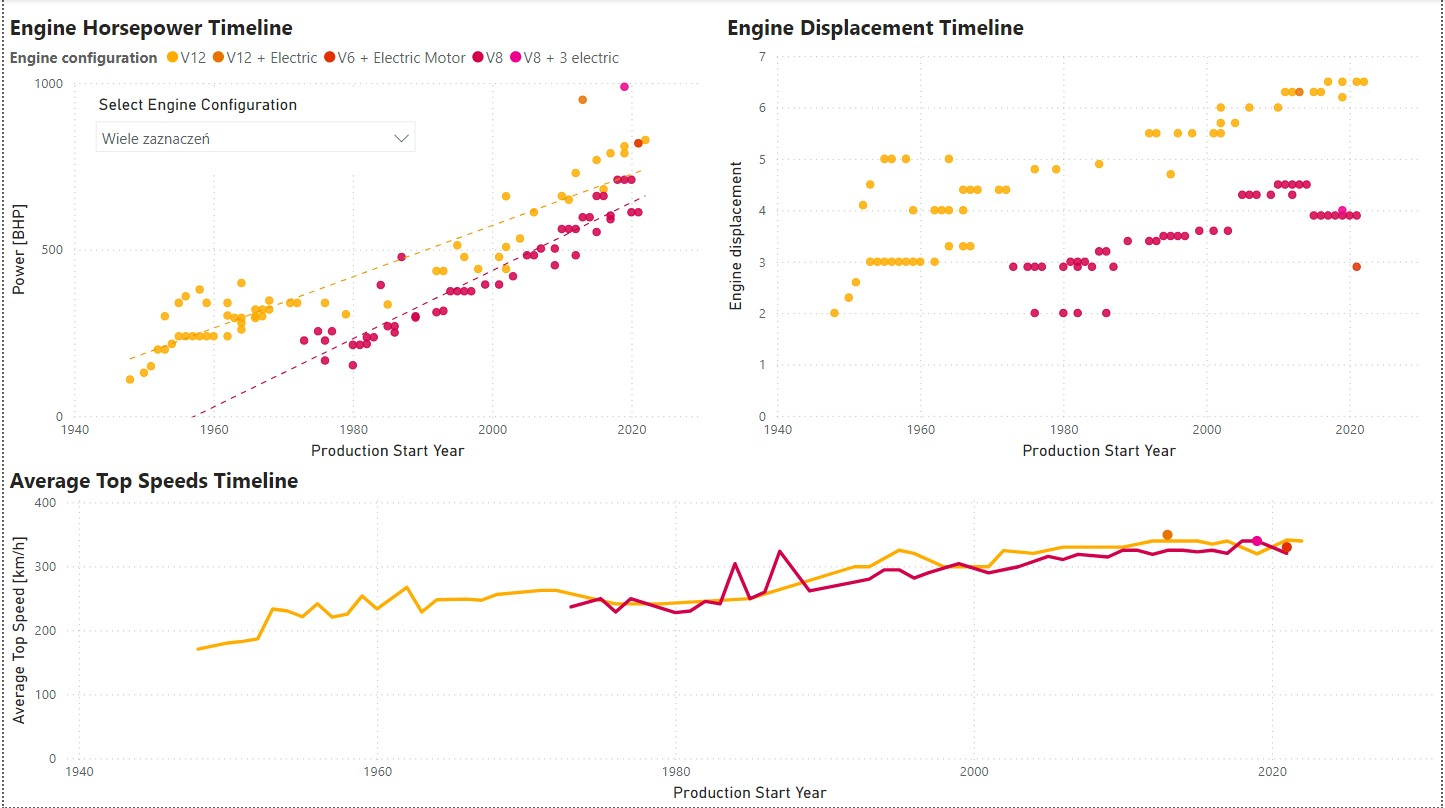

This screenshot's page, from the dashboard's own definition file:
{"tool":"powerbi","page":{"name":"Strona 1","canvas":[1280,720],"ordinal":0},"visuals":[{"type":"scatterChart","title":"Engine Horsepower Timeline","fields":{"X":["cleaned_scraped_ferrari_data.Start Year"],"Y":["cleaned_scraped_ferrari_data.Power BHP"],"Series":["cleaned_scraped_ferrari_data.Engine configuration"]},"box":[0,0,639.4,403],"z":0},{"type":"slicer","fields":{"Values":["cleaned_scraped_ferrari_data.Engine configuration"]},"box":[71.2,79.6,305.2,73.6],"z":1000},{"type":"scatterChart","title":"Engine Displacement Timeline","fields":{"X":["cleaned_scraped_ferrari_data.Start Year"],"Y":["cleaned_scraped_ferrari_data.Engine displacement"],"Series":["cleaned_scraped_ferrari_data.Engine configuration"]},"box":[639.4,0,640.6,403],"z":2000},{"type":"lineChart","title":"Average Top Speeds Timeline","fields":{"Category":["cleaned_scraped_ferrari_data.Start Year"],"Y":["Avg(cleaned_scraped_ferrari_data.Top Speed [km/h])"],"Series":["cleaned_scraped_ferrari_data.Engine configuration"]},"box":[0,403.5,1280.2,316.3],"z":3000}]}

Visuals, with their boxes in screenshot pixels (x1, y1, x2, y2), scaled from the page's 1280x720 canvas onto the 1445x808 screenshot:
"Engine Horsepower Timeline" scatterChart: 0:0:722:452
slicer - cleaned_scraped_ferrari_data.Engine configuration: 80:89:425:172
"Engine Displacement Timeline" scatterChart: 722:0:1444:452
"Average Top Speeds Timeline" lineChart: 0:453:1444:807
